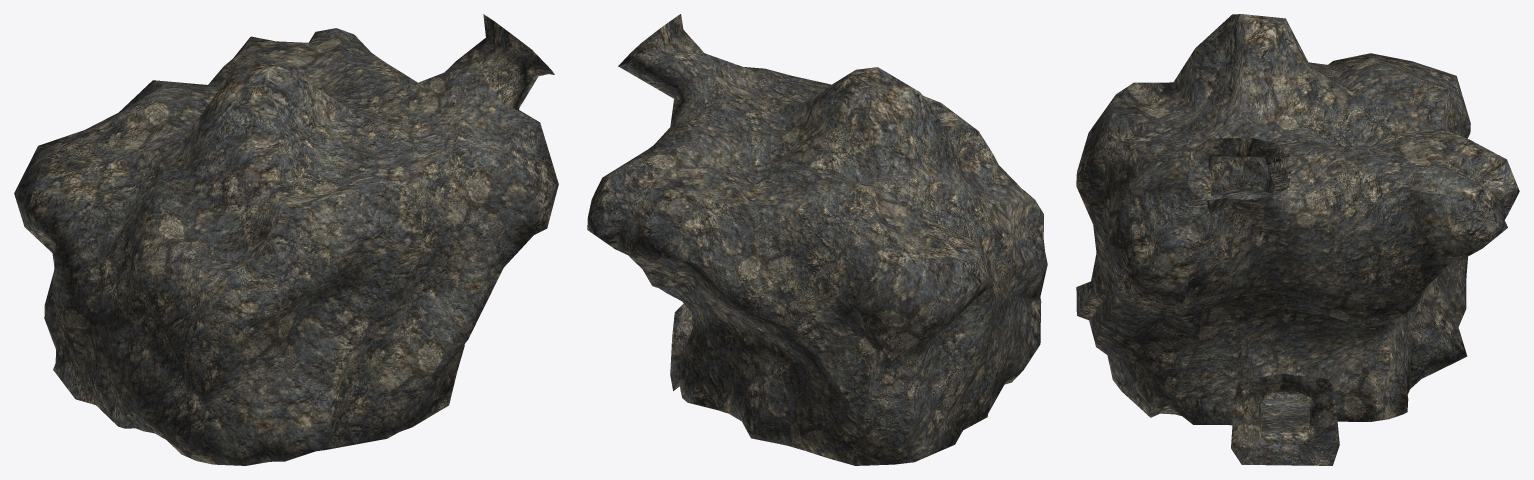
The model's file is Module24A_LOD1.fbx.
The picture shows the model from 3 angles, left to right: view 1: azimuth 30°, elevation 25°; view 2: azimuth 150°, elevation 25°; view 3: azimuth 270°, elevation 25°; orthographic projection. The views are drawn at different scales.
Parts seen in each view (by area): view 1: polySurface434; view 2: polySurface434; view 3: polySurface434.
Boxes of the visible parts, box(x1,y1,x2,y2) form: polySurface434: box(14, 14, 558, 465); polySurface434: box(587, 14, 1047, 465); polySurface434: box(1076, 14, 1519, 465).
Size of the model in its own units: 43.51 by 33.72 by 37.13.
